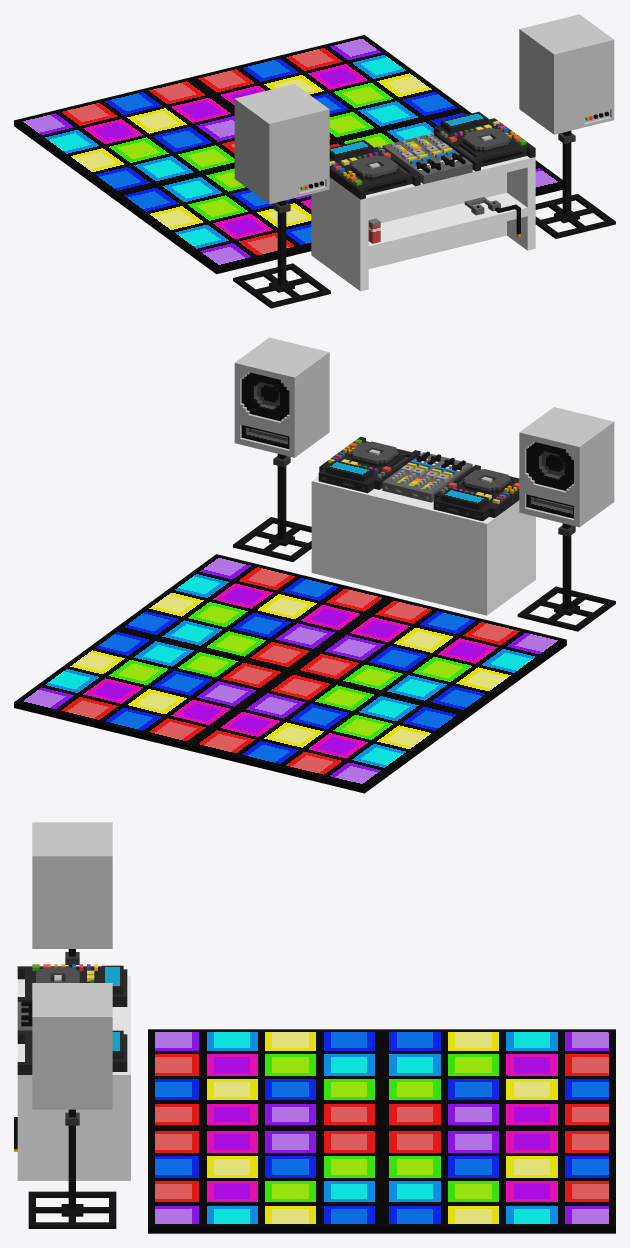
File: b972250e-0907-4196-b472-aac16fc7e4ad.gltf
3 renders of one model, top to bottom at view 1: azimuth 30°, elevation 25°; view 2: azimuth 150°, elevation 25°; view 3: azimuth 270°, elevation 25°, orthographic. The views are drawn at different scales.
Parts seen in each view (by area): view 1: Dance Floor-Local, Table-Local, Speaker 1-Local, Speaker 2-Local, Decks-Local; view 2: Dance Floor-Local, Table-Local, Speaker 1-Local, Speaker 2-Local, Decks-Local; view 3: Dance Floor-Local, Speaker 2-Local, Speaker 1-Local, Table-Local, Decks-Local.
Boxes of the visible parts, x1,y1,x2,y2 form: Dance Floor-Local: (14, 35, 562, 274); Table-Local: (311, 134, 535, 291); Speaker 1-Local: (233, 84, 330, 308); Speaker 2-Local: (519, 14, 615, 238); Decks-Local: (329, 111, 535, 199); Dance Floor-Local: (14, 554, 566, 793); Table-Local: (311, 476, 535, 615); Speaker 1-Local: (517, 407, 615, 631); Speaker 2-Local: (233, 337, 329, 561); Decks-Local: (318, 436, 519, 521); Dance Floor-Local: (148, 1029, 615, 1233); Speaker 2-Local: (28, 983, 116, 1228); Speaker 1-Local: (32, 822, 112, 966); Table-Local: (14, 976, 130, 1180); Decks-Local: (17, 964, 127, 1074).
Size of the model in its own units: 128 by 65 by 165.
5 materials, 5 textured.
